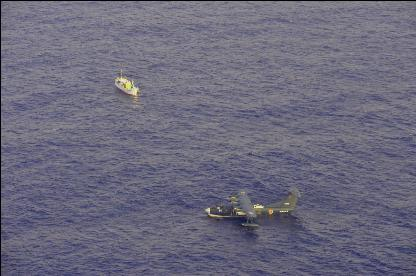Tu95: (204, 184, 306, 226)
